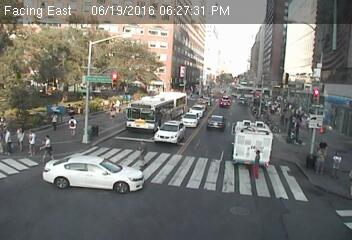neg: (11, 12, 46, 58), (284, 17, 318, 62), (212, 14, 241, 52), (195, 161, 219, 193), (81, 12, 104, 43), (285, 168, 307, 198), (219, 135, 238, 161), (180, 17, 199, 41), (127, 19, 145, 44), (166, 179, 182, 200), (244, 83, 259, 104), (288, 76, 303, 96), (66, 58, 79, 76), (94, 178, 106, 195), (182, 100, 194, 115), (136, 103, 147, 117), (308, 112, 316, 123)
pos: (306, 134, 336, 174), (243, 146, 270, 183), (327, 149, 349, 177), (132, 137, 153, 166), (8, 122, 28, 150), (59, 110, 79, 137), (39, 132, 58, 158), (45, 108, 64, 134), (22, 129, 40, 153), (111, 94, 121, 107)
